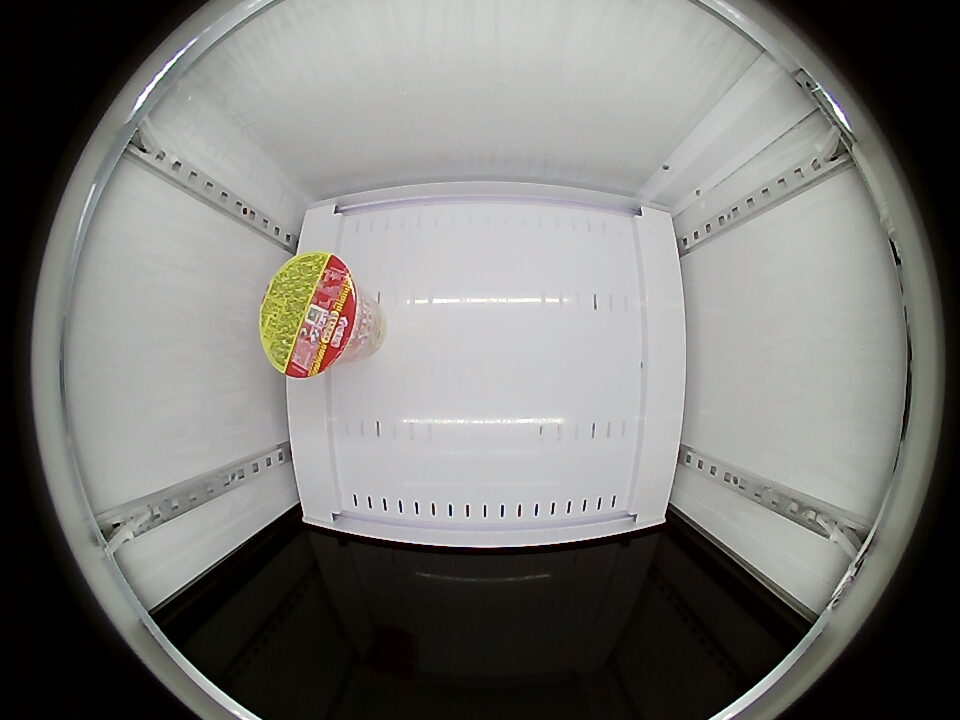heweidao3: (259, 251, 361, 378)
